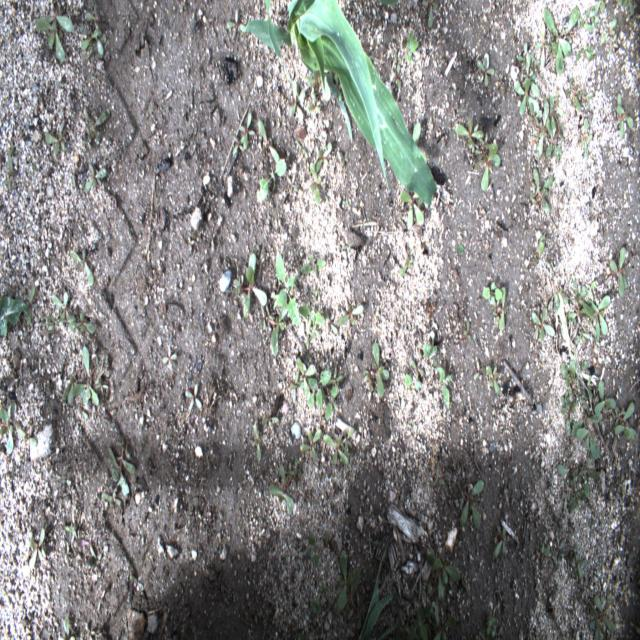crop: (238, 0, 438, 209), (358, 564, 395, 640)
weed: (100, 435, 136, 508), (573, 278, 611, 345), (61, 346, 100, 407), (268, 460, 306, 515), (237, 252, 268, 319), (422, 342, 452, 410), (332, 548, 362, 615), (543, 7, 572, 76), (36, 14, 74, 65), (276, 249, 301, 325), (51, 292, 96, 333), (526, 97, 552, 161), (554, 458, 589, 505), (571, 408, 601, 461), (363, 340, 390, 398), (257, 152, 288, 202), (588, 594, 620, 639), (432, 554, 464, 598), (481, 279, 507, 332), (474, 142, 501, 192), (0, 296, 32, 338), (460, 477, 484, 530), (568, 0, 606, 33), (324, 427, 354, 468), (613, 396, 637, 444), (84, 104, 112, 145), (325, 366, 345, 421), (530, 168, 554, 212), (430, 597, 457, 636), (530, 305, 556, 344), (258, 119, 280, 165), (455, 116, 484, 150), (563, 314, 592, 348), (69, 248, 94, 287), (609, 246, 627, 300), (592, 380, 618, 417), (79, 27, 108, 60), (266, 304, 285, 354), (613, 92, 634, 137), (308, 370, 333, 406), (0, 400, 16, 455), (512, 45, 540, 76), (516, 78, 540, 114), (299, 304, 325, 337), (560, 393, 579, 438), (545, 114, 563, 161), (45, 119, 67, 157), (308, 148, 323, 203), (562, 81, 584, 118), (409, 603, 432, 638), (295, 358, 316, 396), (598, 9, 617, 50), (28, 526, 46, 569), (300, 427, 322, 462), (95, 352, 111, 396), (570, 542, 588, 581), (300, 252, 328, 277), (476, 54, 495, 90), (304, 532, 324, 566), (404, 360, 424, 394), (84, 165, 108, 192), (288, 82, 305, 120), (549, 281, 568, 315), (239, 111, 255, 149), (490, 535, 507, 570), (404, 28, 420, 65), (578, 119, 592, 160), (339, 303, 365, 325), (310, 582, 327, 615), (485, 362, 501, 397), (291, 370, 306, 406), (574, 44, 598, 66), (558, 358, 576, 387), (484, 615, 504, 640), (225, 6, 239, 40), (40, 312, 54, 342), (17, 426, 37, 446), (583, 86, 597, 114), (7, 144, 19, 172), (535, 235, 546, 265), (540, 536, 552, 563), (254, 421, 262, 461), (427, 0, 437, 30), (63, 617, 75, 639), (232, 134, 245, 154), (129, 574, 145, 590), (65, 524, 77, 543), (28, 284, 36, 303), (261, 416, 280, 423)
